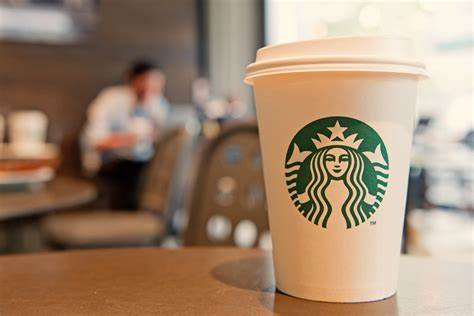starbucks Originale: (280, 111, 396, 238)
